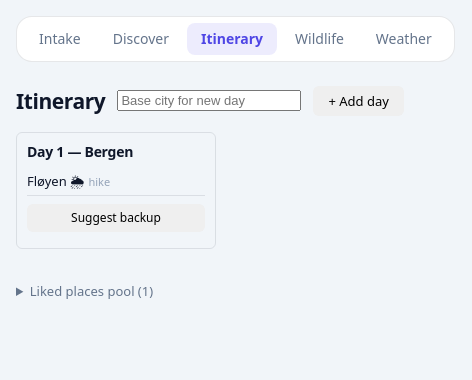
it: ItineraryPage › shows day with weather item and suggests backup
The image size is (472, 380).
Expected: the list item "Fløyen 🌦hike" is shown, [27,168,205,196]
Click the button "Suggest backup" at (116, 218), box [27,204,205,232]
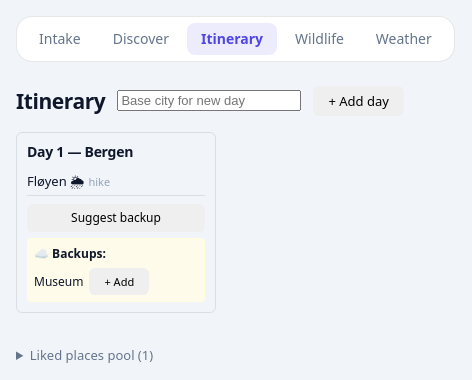
Result: the list item "Museum + Add" is shown at [34,268,149,295]
